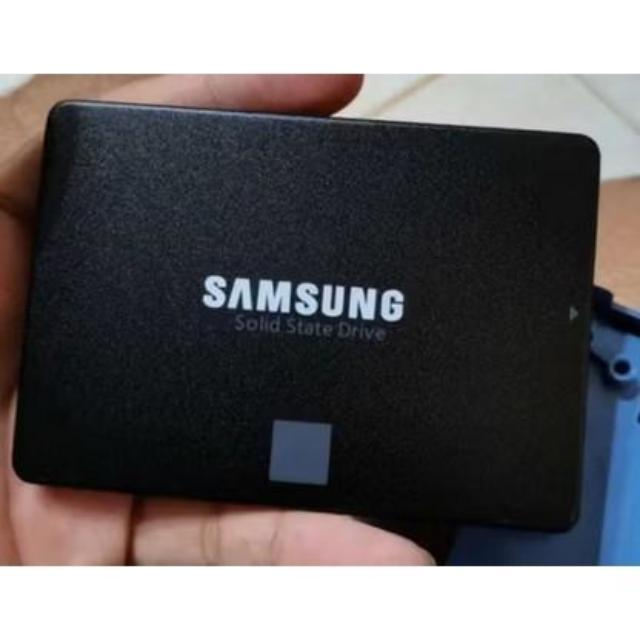DISK: (4, 96, 602, 542)
